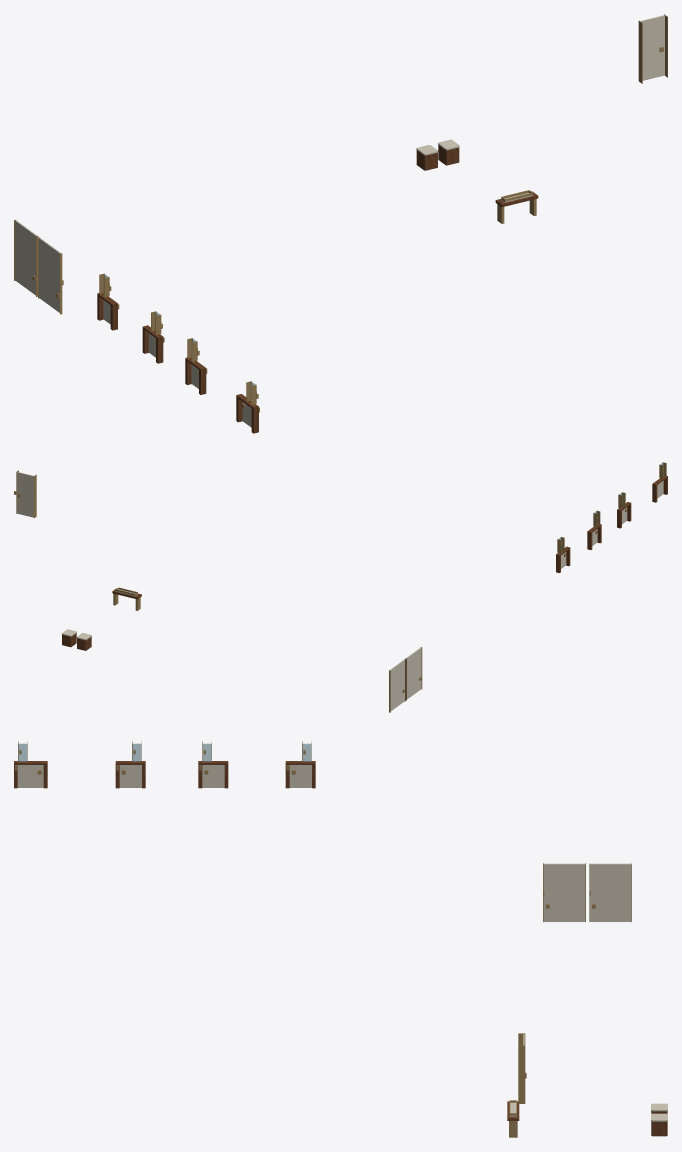
File: D04_PHYSICAL_FITTINGS_r003.glb
3 views of the same model, one above another, from view 1: azimuth 30°, elevation 25°; view 2: azimuth 150°, elevation 25°; view 3: azimuth 270°, elevation 25° (orthographic). The views are drawn at different scales.
Parts seen in each view (by area): view 1: D04PC_CourtSouth_Leaf, D04PC_StaffUsed_Leaf, D04PC_StaffClean_Leaf; view 2: D04PC_CourtSouth_Leaf, D04PC_StaffClean_Leaf, D04PC_StaffUsed_Leaf; view 3: D04PC_StaffUsed_Leaf, D04PC_StaffClean_Leaf, D04PC_Hatch_928_1_Leaf.
Part boxes in pixels (x1,y1,x2,y2): D04PC_CourtSouth_Leaf: [640, 15, 664, 80]; D04PC_StaffUsed_Leaf: [15, 220, 37, 295]; D04PC_StaffClean_Leaf: [39, 238, 60, 312]; D04PC_CourtSouth_Leaf: [17, 472, 33, 517]; D04PC_StaffClean_Leaf: [406, 647, 421, 699]; D04PC_StaffUsed_Leaf: [390, 659, 404, 711]; D04PC_StaffUsed_Leaf: [589, 863, 631, 921]; D04PC_StaffClean_Leaf: [543, 863, 585, 921]; D04PC_Hatch_928_1_Leaf: [17, 765, 43, 787].
Size of the model in its own units: 31.57 by 7.2 by 27.31.
Materials: 4 (3 with a texture image).
